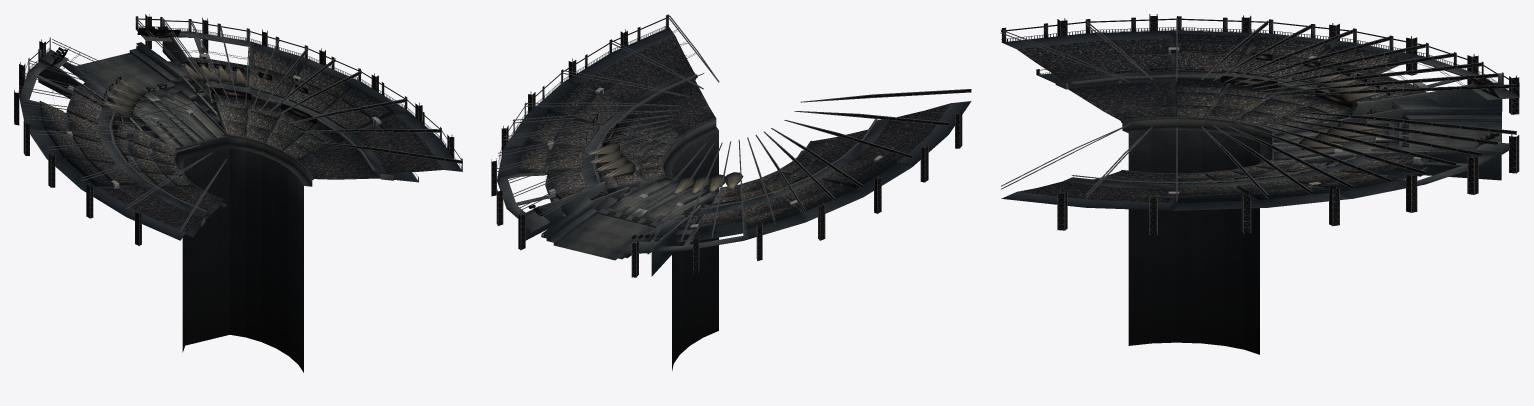
Rendered from stadium.glb.
3 renders of one model, left to right at view 1: azimuth 30°, elevation 25°; view 2: azimuth 150°, elevation 25°; view 3: azimuth 270°, elevation 25°, orthographic. The views are drawn at different scales.
Visible parts, largest first — view 1: StudiumMain (×14), StudiumDoom (×5); view 2: StudiumMain (×11), StudiumDoom (×4); view 3: StudiumMain (×12), StudiumDoom (×4).
Part boxes in pixels (x1,y1,x2,y2): StudiumMain (×14): (14, 14, 462, 372); StudiumDoom (×5): (19, 18, 462, 232); StudiumMain (×11): (491, 14, 971, 370); StudiumDoom (×4): (497, 15, 971, 244); StudiumMain (×12): (1001, 14, 1519, 354); StudiumDoom (×4): (1000, 17, 1516, 201).
Bounding box in the file's own units: 1685 × 1125 × 2003.
28 materials, 28 textured.
